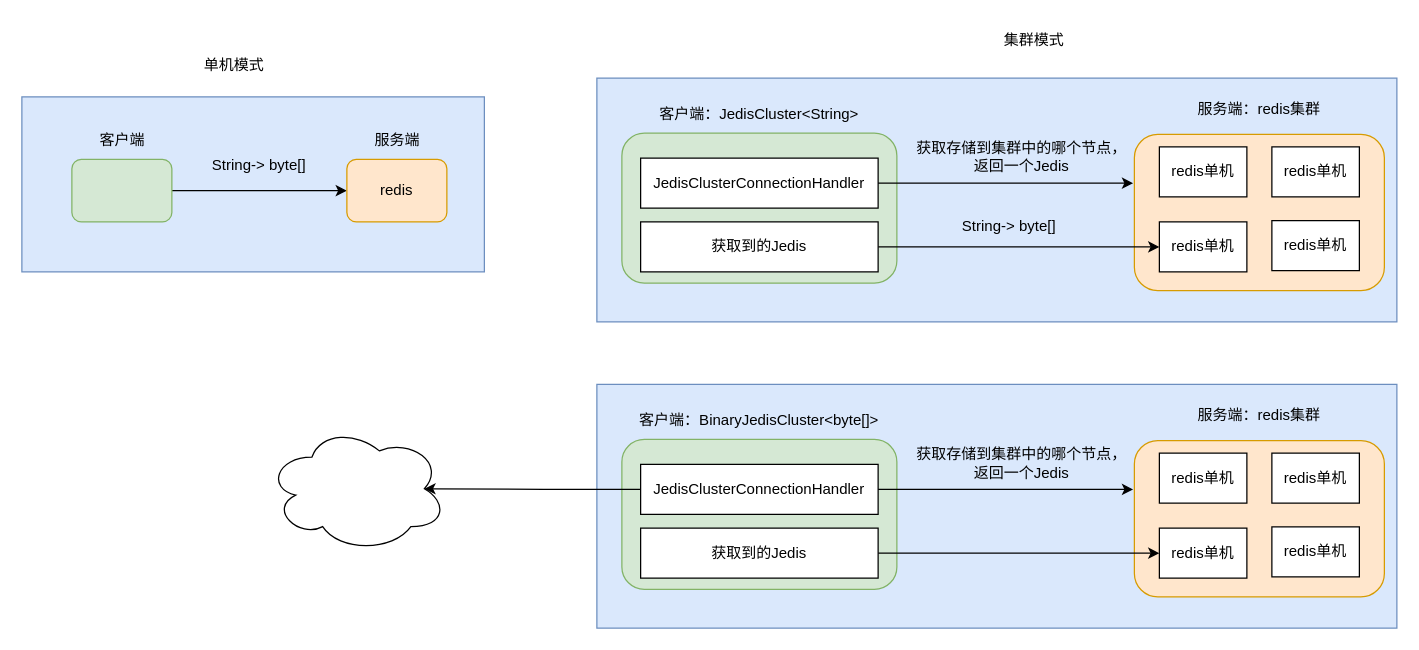
Some shapes in this 1419 by 650 pixel diagram are drawn without their labels. The shapes that lost their labels are listed below. From the top down, each one's centre as x and y in pixels, then its label:
the point at 121,190: Jedis <String类型>
the point at 356,488: 与redis集群连接， 选择存储到哪个节点， 路由的作用
